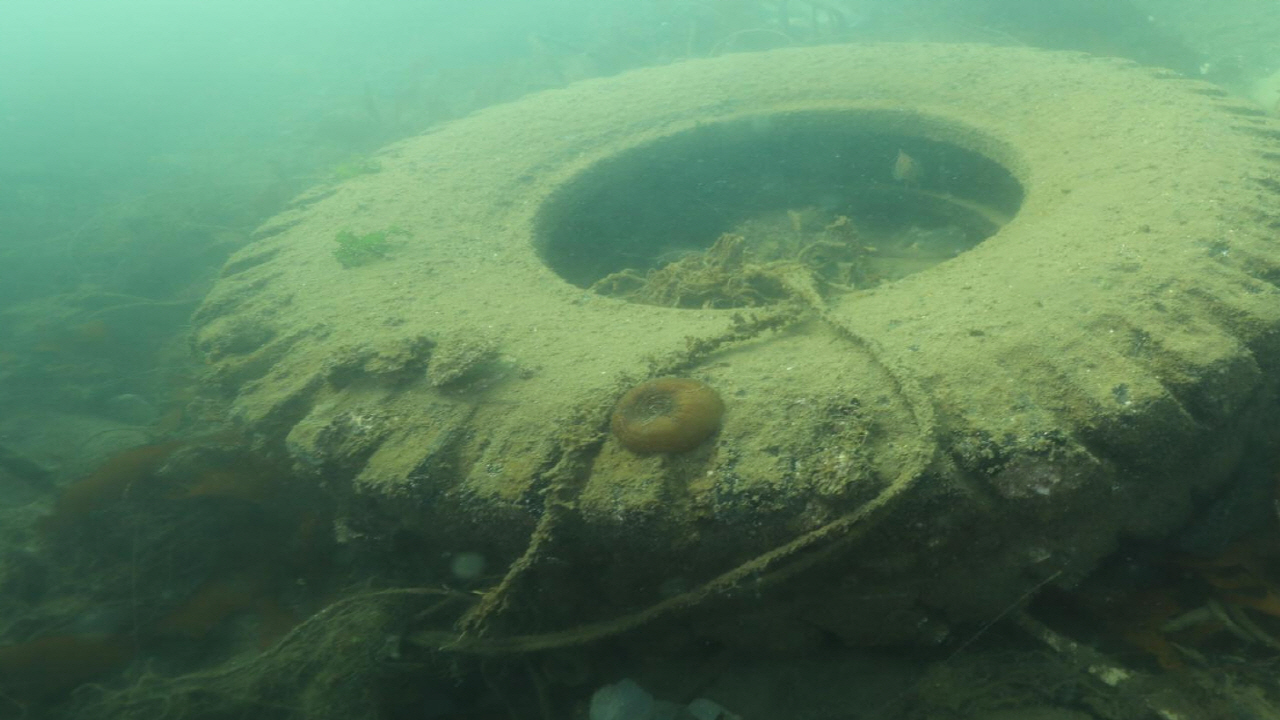bundle of ropes: (411, 283, 926, 672)
tire: (190, 37, 1280, 659)
